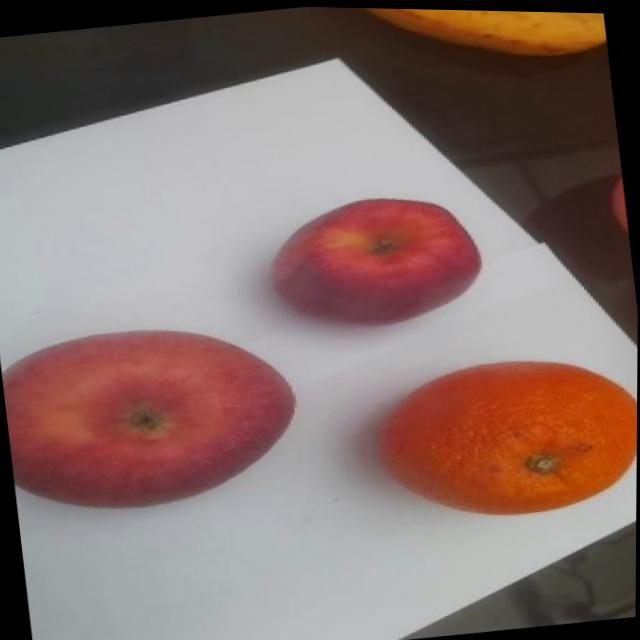Apple: (0, 309, 309, 526), (265, 183, 489, 340)
Banana: (351, 6, 607, 80)
Orange: (369, 340, 638, 532)
